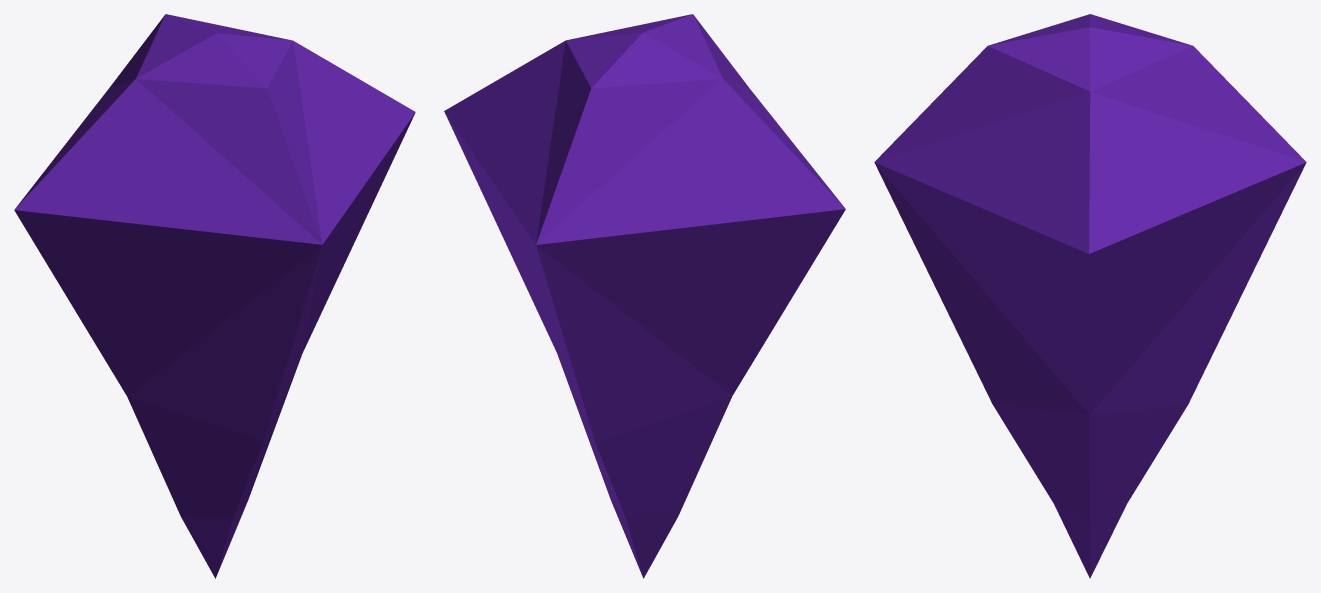
The model's file is PowerCrystal.fbx.
The picture shows the model from 3 angles, left to right: view 1: azimuth 30°, elevation 25°; view 2: azimuth 150°, elevation 25°; view 3: azimuth 270°, elevation 25°; orthographic projection.
Visible parts, largest first — view 1: PowerCrystal; view 2: PowerCrystal; view 3: PowerCrystal.
Boxes of the visible parts, bbox=[...] form: PowerCrystal: bbox=[14, 14, 415, 578]; PowerCrystal: bbox=[444, 14, 845, 578]; PowerCrystal: bbox=[874, 14, 1306, 578].
Bounding box in the file's own units: 1.84 × 2.39 × 1.69.
